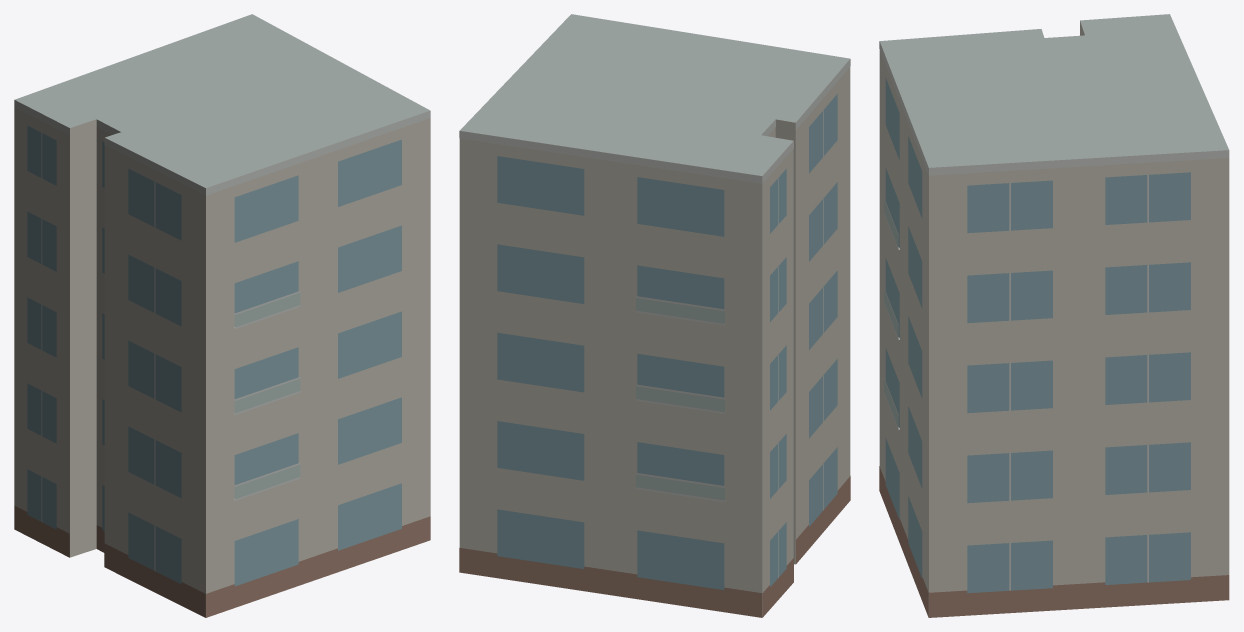
The model's file is survey-upis-32632447.glb.
3 views of the same model, side by side, from view 1: azimuth 30°, elevation 25°; view 2: azimuth 150°, elevation 25°; view 3: azimuth 270°, elevation 25° (orthographic). The views are drawn at different scales.
Parts seen in each view (by area): view 1: survey-upis-32632447.tmp; view 2: survey-upis-32632447.tmp; view 3: survey-upis-32632447.tmp.
Boxes of the visible parts, bbox=[...] form: survey-upis-32632447.tmp: bbox=[14, 14, 430, 617]; survey-upis-32632447.tmp: bbox=[459, 14, 850, 617]; survey-upis-32632447.tmp: bbox=[879, 14, 1229, 617].
Bounding box in the file's own units: 10.42 × 14.2 × 10.01.
